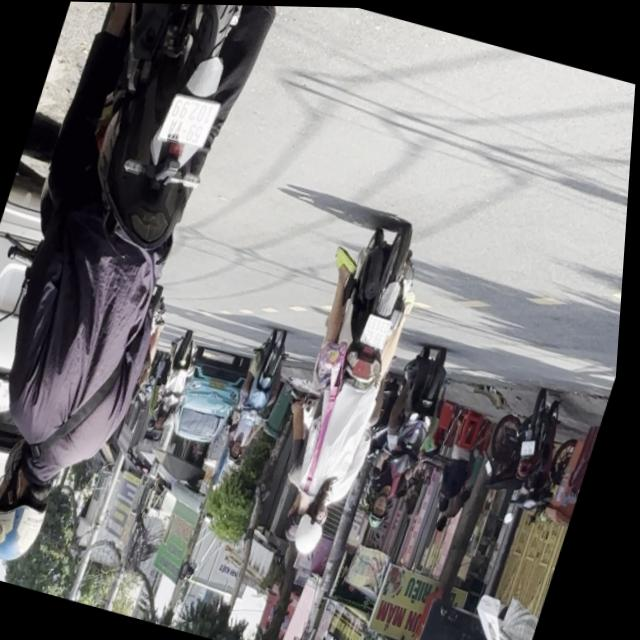helmet: (0, 445, 73, 571), (296, 492, 341, 557), (373, 490, 399, 530)
licenseplate: (0, 0, 288, 591), (251, 207, 445, 568), (359, 336, 465, 538)
motorcyclist: (284, 485, 320, 545)
nohelmet: (161, 92, 222, 151), (363, 312, 397, 348)
